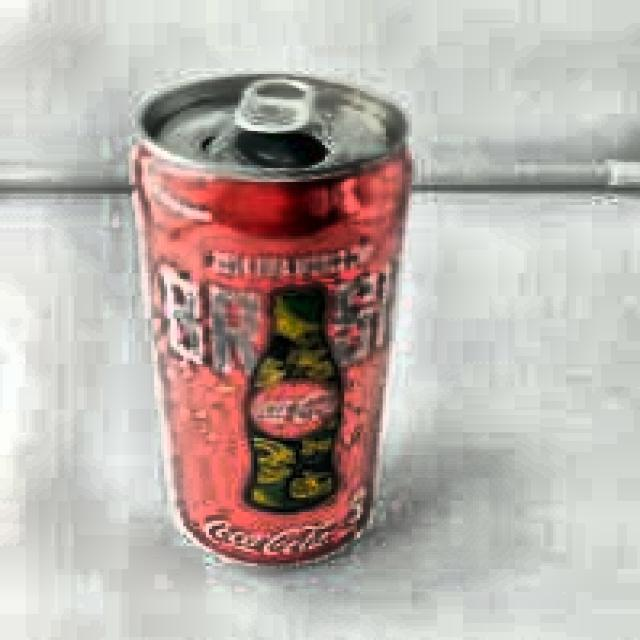Cans: (118, 53, 437, 580)
